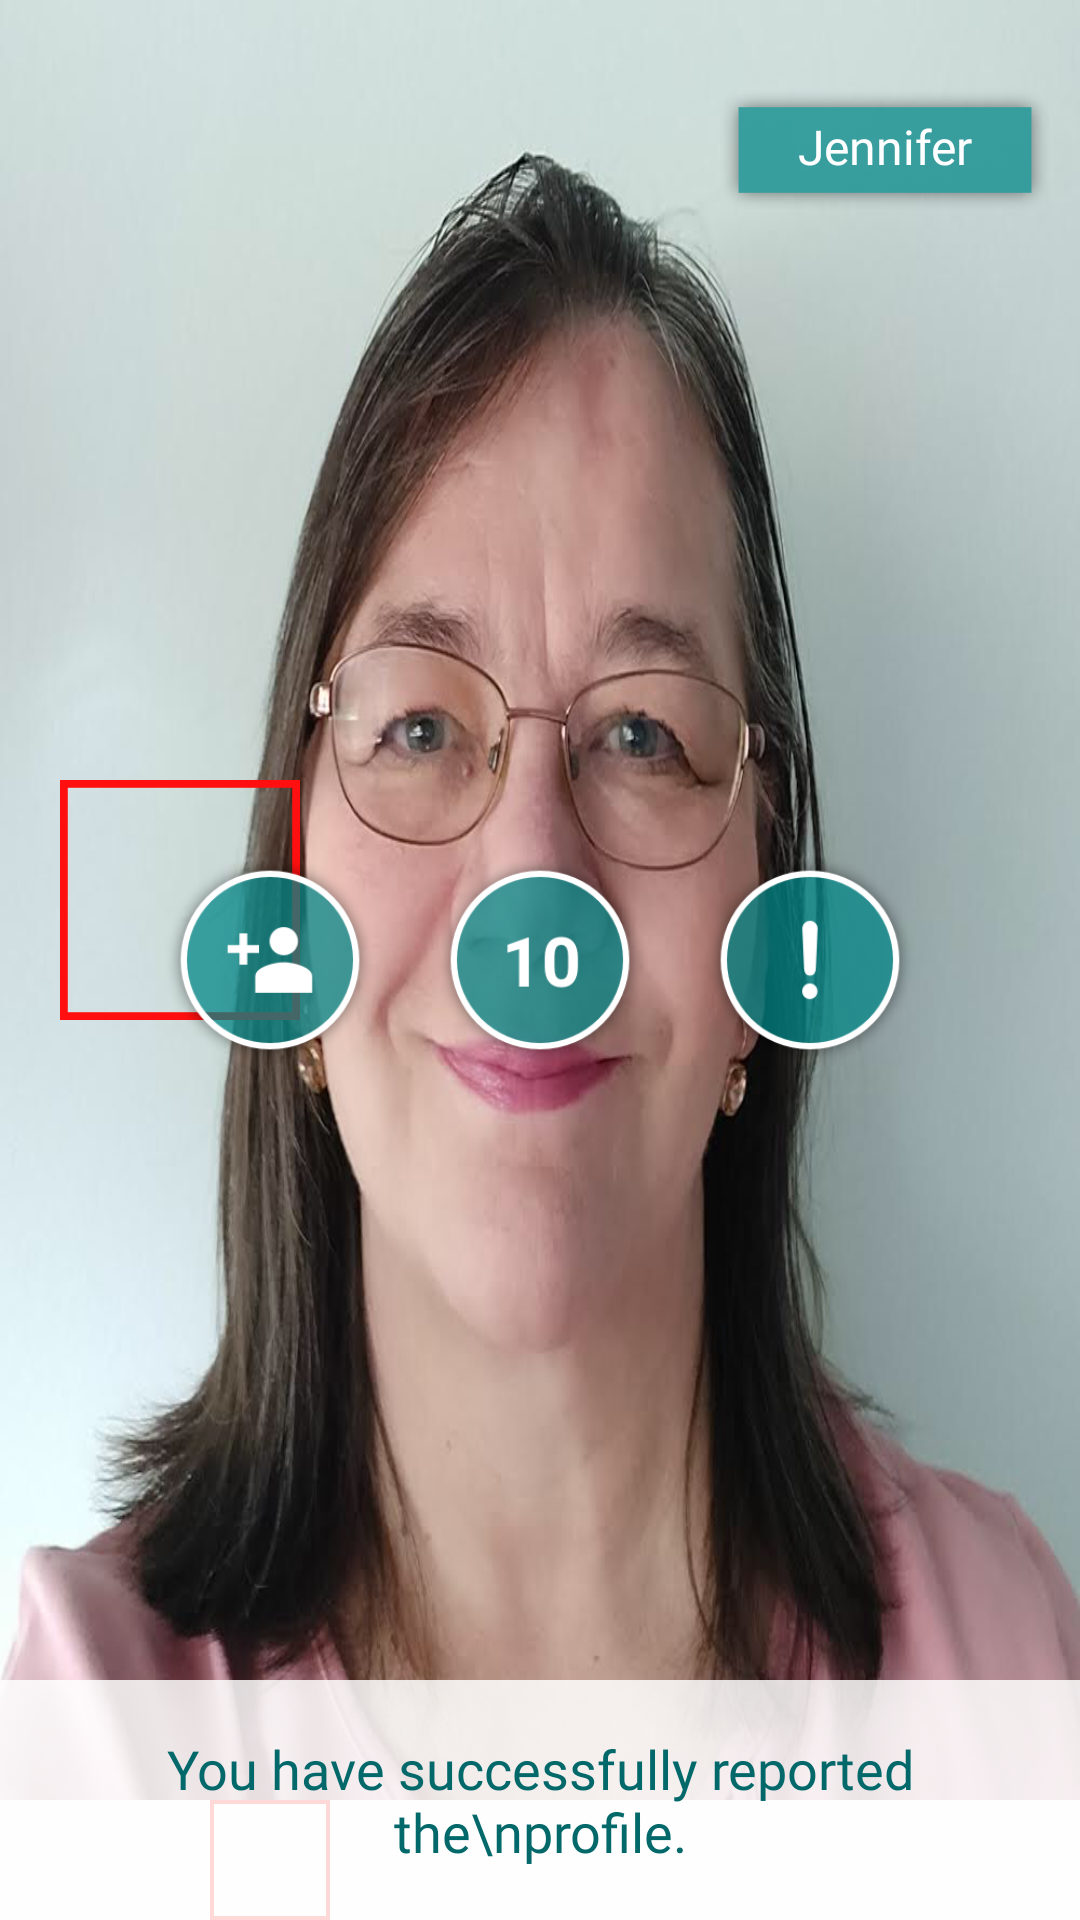

Screen size 1080px×1920px. Icon name, then its center in pixels as (x=x, y=y):
number: (x=540, y=960)
